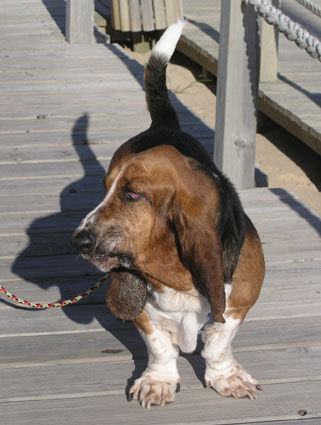dog: (73, 20, 267, 411)
